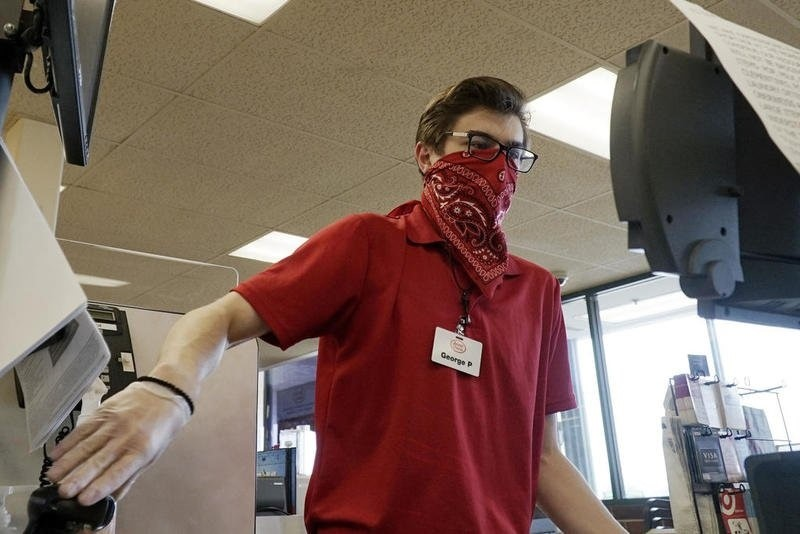face_with_mask: (419, 83, 529, 223)
